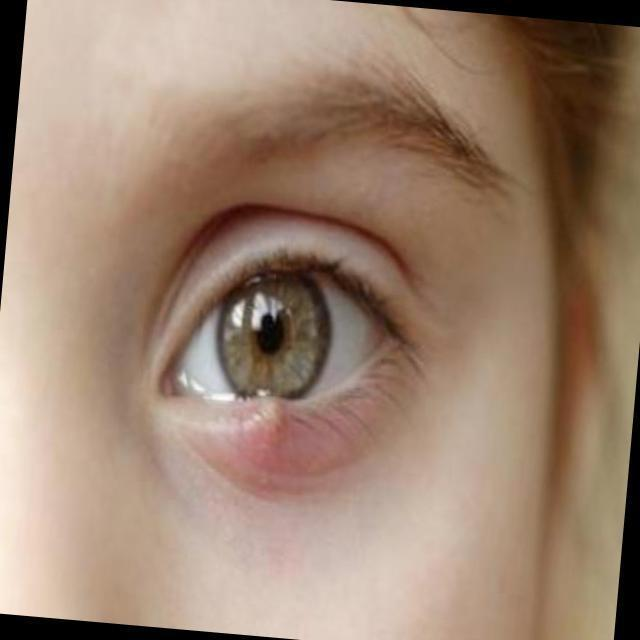Stye: (170, 344, 334, 508)
